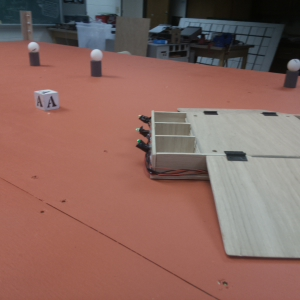obstacle: (275, 56, 300, 90), (27, 41, 44, 68), (90, 52, 104, 75)
side: (133, 109, 193, 177)
slope: (211, 147, 300, 249), (195, 103, 281, 121)
